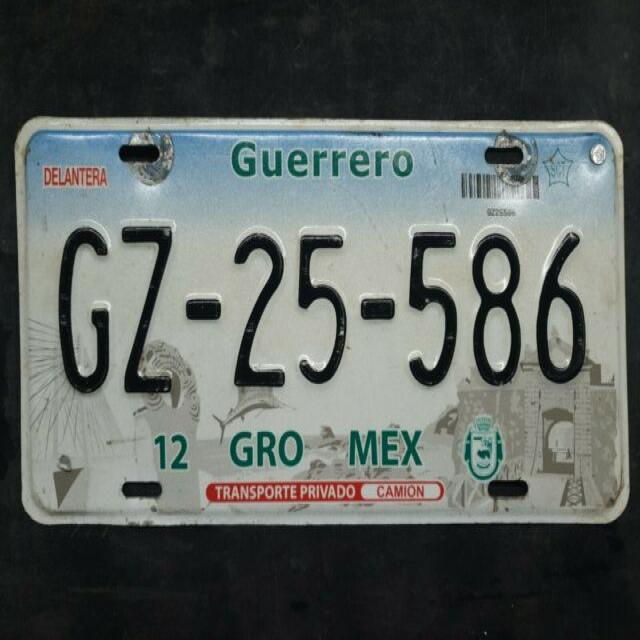placa: (36, 200, 613, 408)
